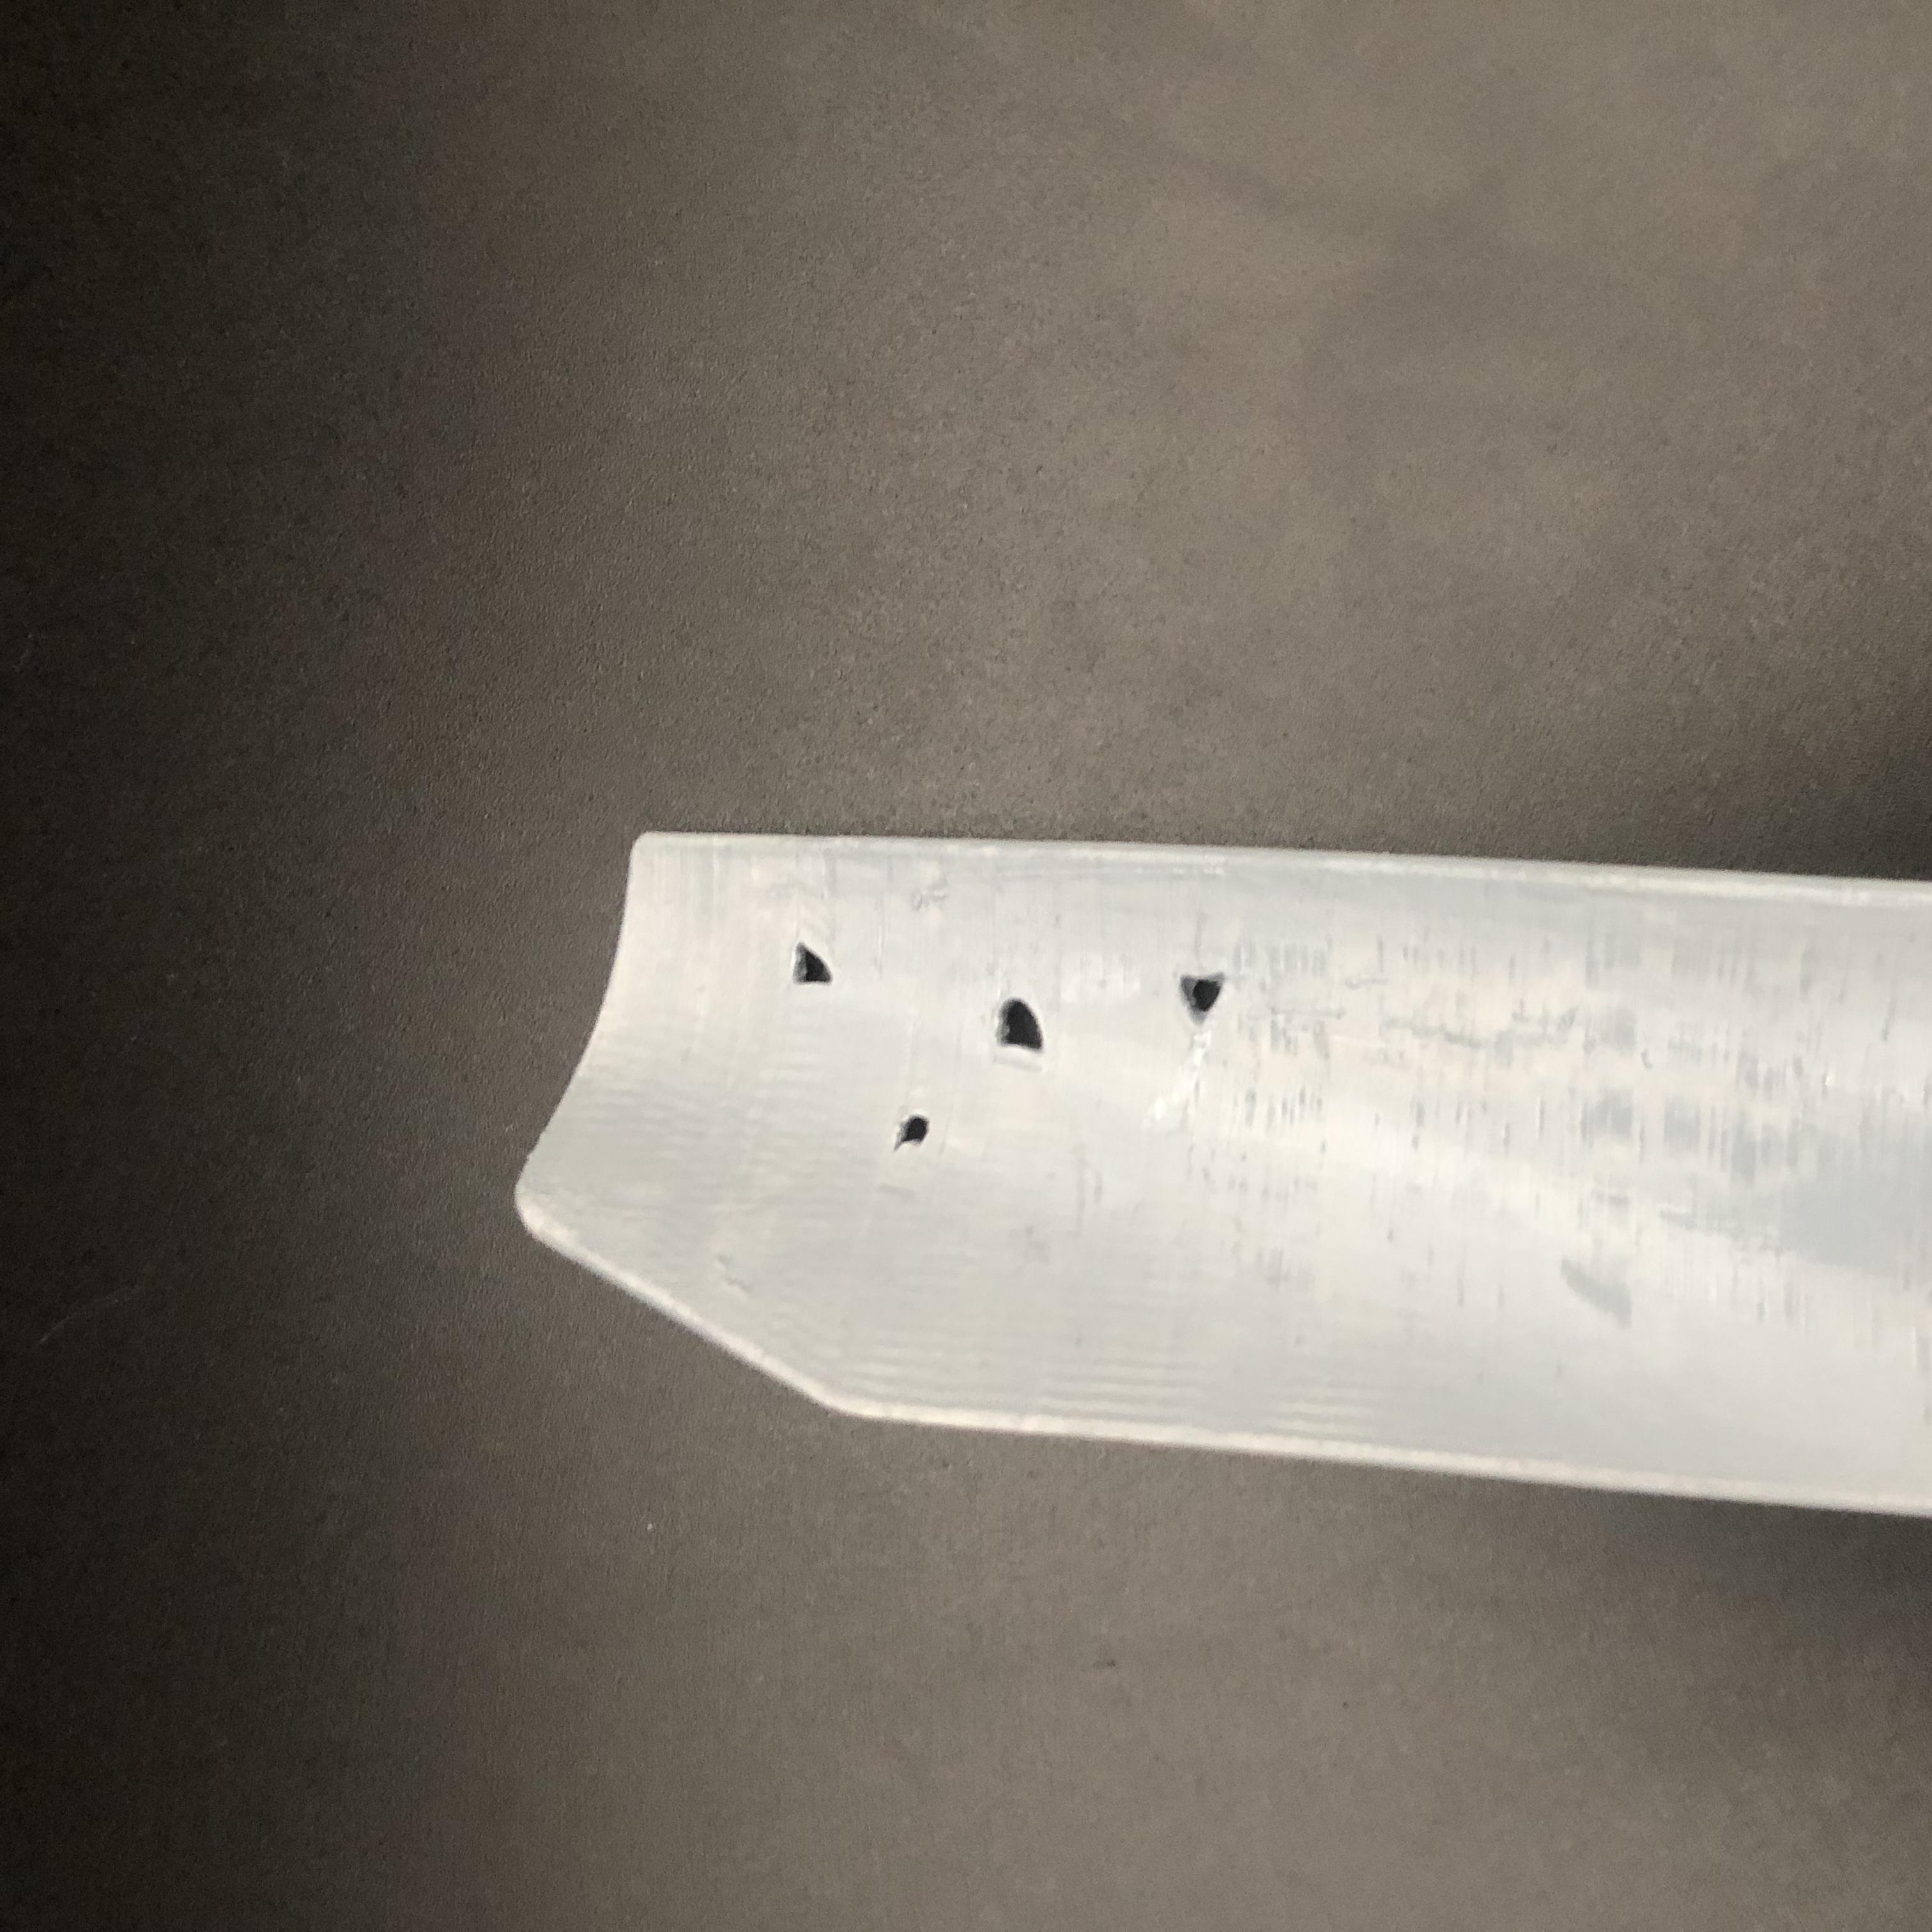breakdown: (771, 936, 1254, 1168)
